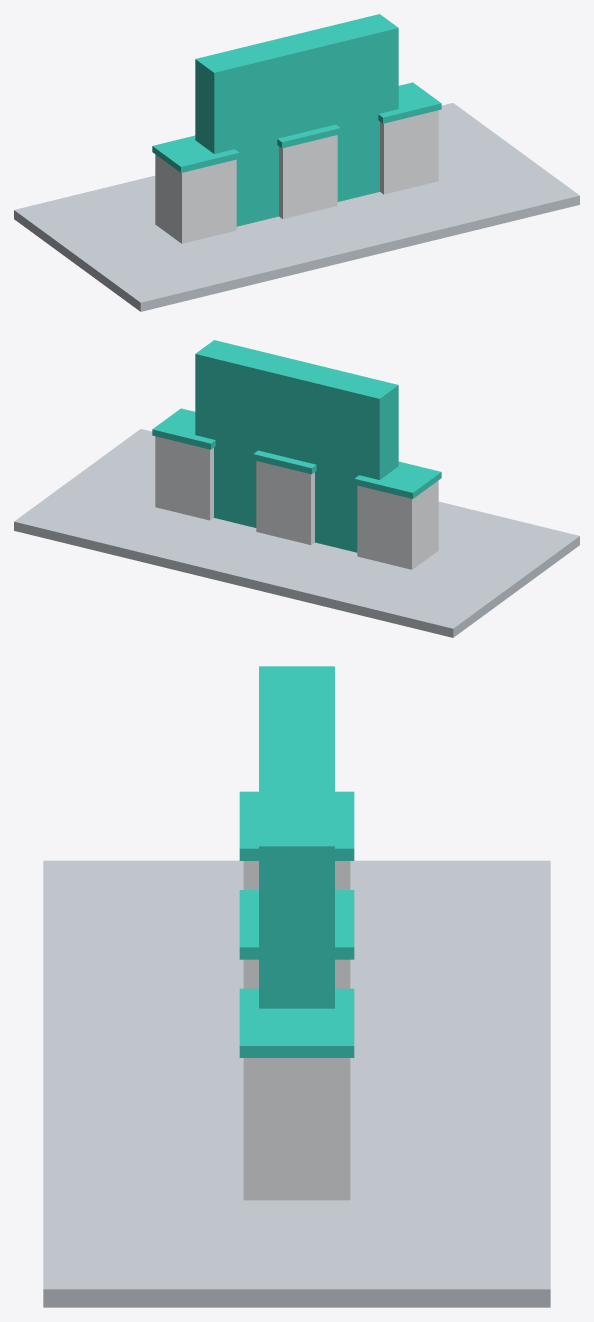
3 views of the same model, one above another, from view 1: azimuth 30°, elevation 25°; view 2: azimuth 150°, elevation 25°; view 3: azimuth 270°, elevation 25° (orthographic). The views are drawn at different scales.
Parts seen in each view (by area): view 1: Exhibition Booth Concept; view 2: Exhibition Booth Concept; view 3: Exhibition Booth Concept.
Part boxes in pixels (x1,y1,x2,y2): Exhibition Booth Concept: [14, 14, 579, 311]; Exhibition Booth Concept: [14, 340, 579, 637]; Exhibition Booth Concept: [43, 666, 550, 1307].
Bounding box in the file's own units: 6 × 2.2 × 3.
